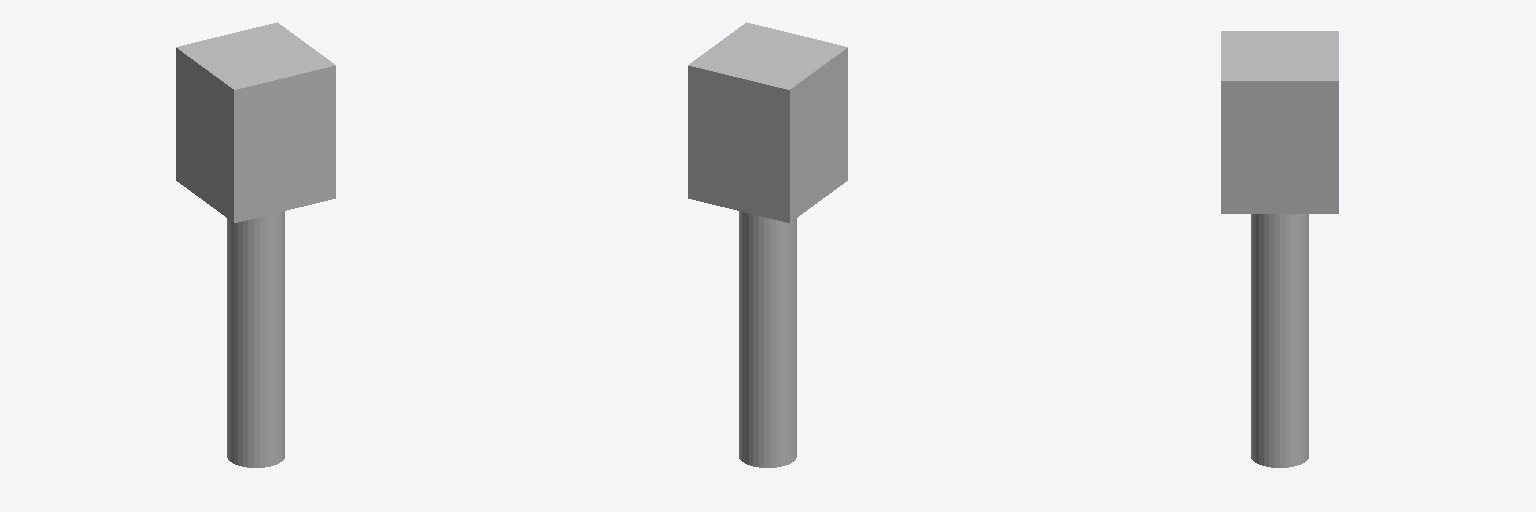
Rendered from block_arrow.obj.
The picture shows the model from 3 angles: view 1: azimuth 30°, elevation 25°; view 2: azimuth 150°, elevation 25°; view 3: azimuth 270°, elevation 25°; orthographic projection.
Size of the model in its own units: 0.8 by 3 by 0.8.